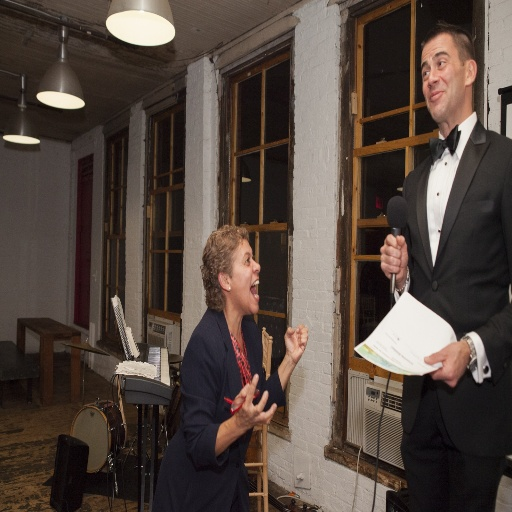hand: (428, 331, 500, 389), (232, 371, 278, 435), (378, 233, 409, 286), (282, 321, 310, 368)
